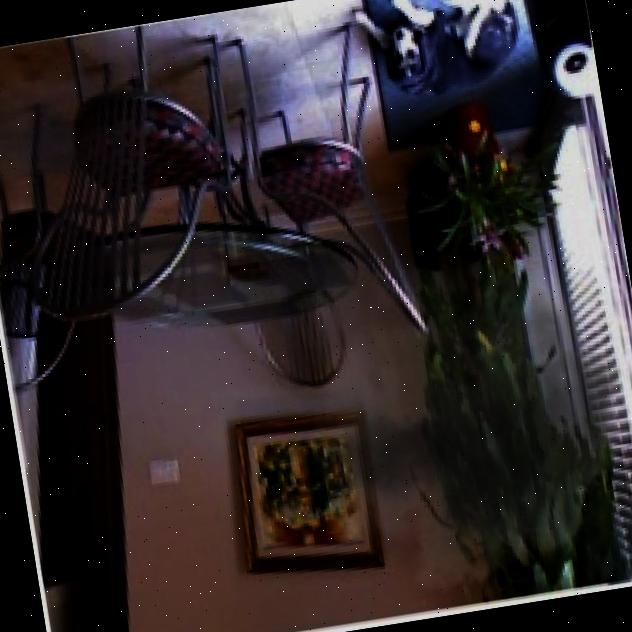smoke: (279, 210, 632, 625)
